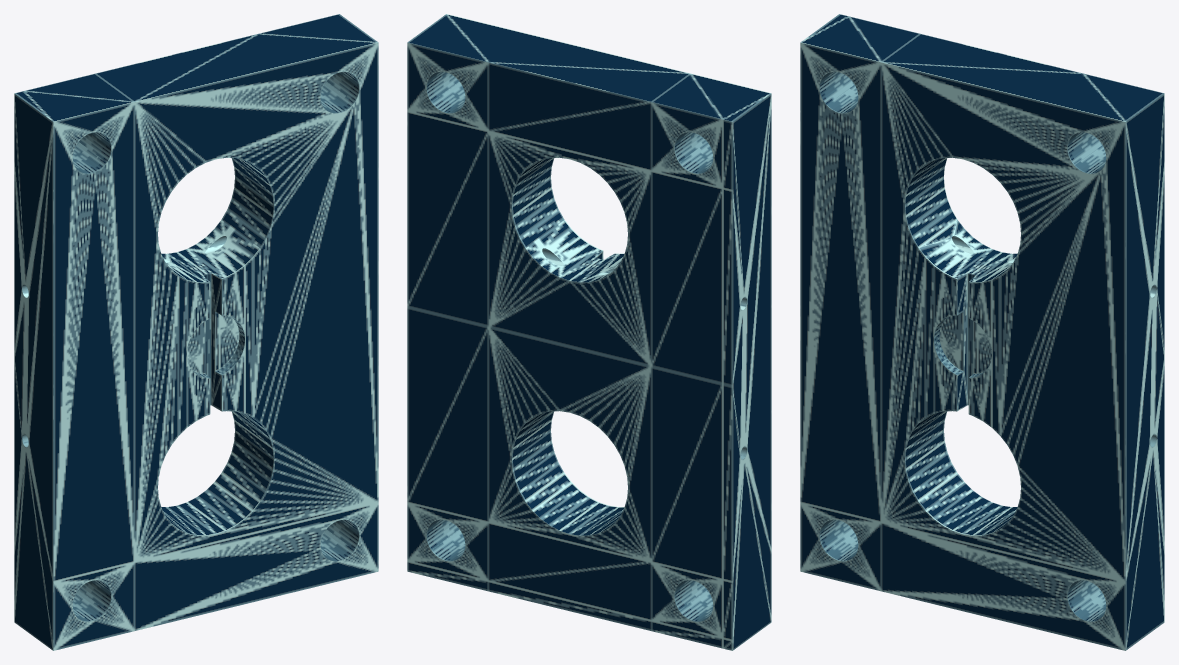
Rendered from Mold4-Cavity retainer plate-M.glb.
The picture shows the model from 3 angles, left to right: view 1: azimuth 30°, elevation 25°; view 2: azimuth 150°, elevation 25°; view 3: azimuth 330°, elevation 25°; orthographic projection.
Parts seen in each view (by area): view 1: GERGTGQ - EMPRITE FINIE-1 PORTEEMPRITE-2; view 2: GERGTGQ - EMPRITE FINIE-1 PORTEEMPRITE-2; view 3: GERGTGQ - EMPRITE FINIE-1 PORTEEMPRITE-2.
Part boxes in pixels (x1,y1,x2,y2): GERGTGQ - EMPRITE FINIE-1 PORTEEMPRITE-2: [14, 14, 378, 650]; GERGTGQ - EMPRITE FINIE-1 PORTEEMPRITE-2: [407, 14, 771, 650]; GERGTGQ - EMPRITE FINIE-1 PORTEEMPRITE-2: [800, 14, 1164, 650].
Bounding box in the file's own units: 5.98 × 9.29 × 1.25.
Materials: 1 (1 with a texture image).
